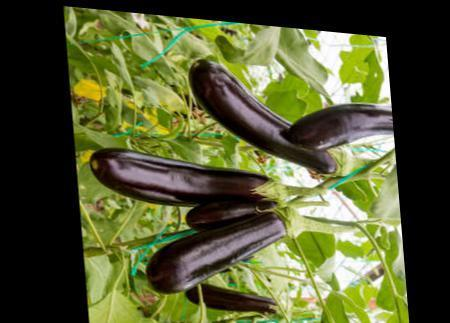eggplant: (104, 102, 337, 322)
